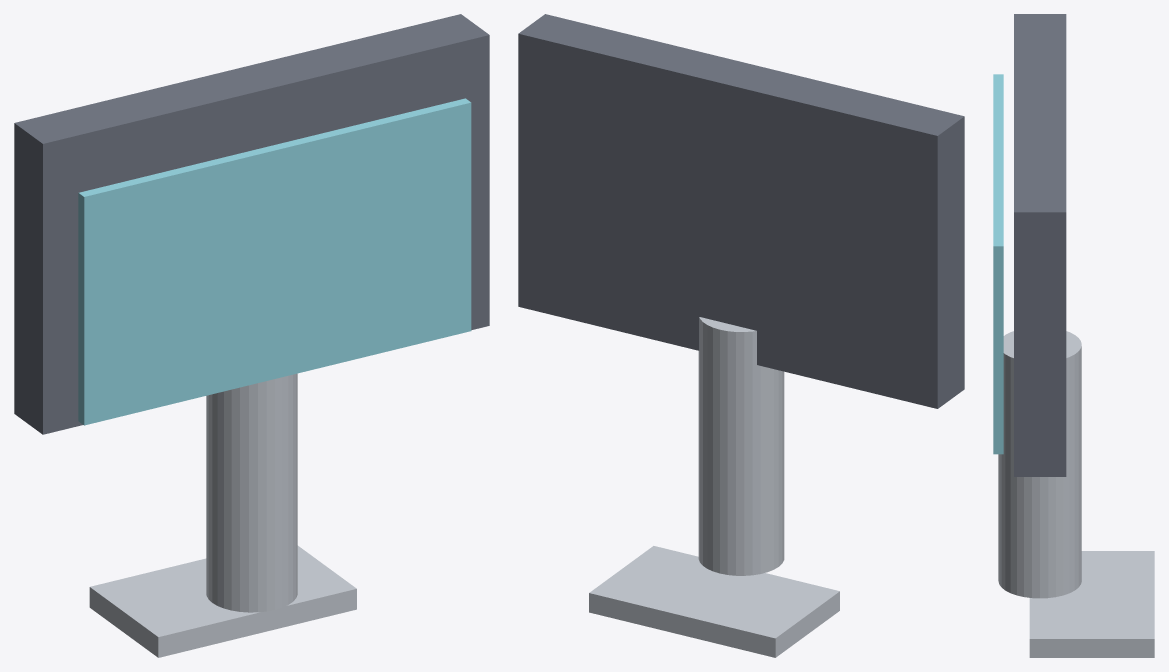
Rendered from monitor.glb.
3 renders of one model, left to right at view 1: azimuth 30°, elevation 25°; view 2: azimuth 150°, elevation 25°; view 3: azimuth 270°, elevation 25°, orthographic. The views are drawn at different scales.
Visible parts, largest first — view 1: Monitor; view 2: Monitor; view 3: Monitor.
Boxes of the visible parts, <box> form: Monitor: <box>14,14,489,657</box>; Monitor: <box>518,14,964,657</box>; Monitor: <box>993,14,1154,657</box>.
Bounding box in the file's own units: 0.45 × 0.53 × 0.155.
